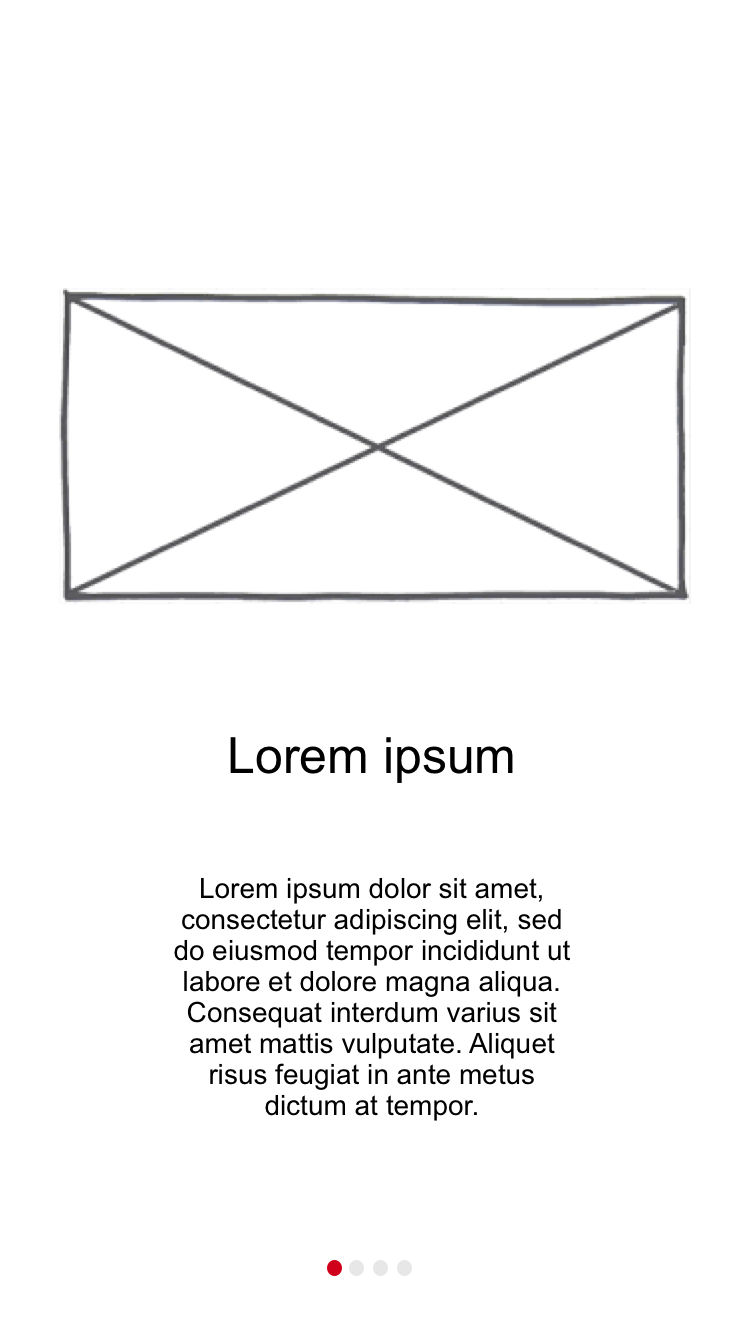Image: (59, 288, 690, 603)
PageIndicator: (326, 1259, 414, 1278)
Text: (173, 877, 571, 1122), (229, 735, 514, 784)
